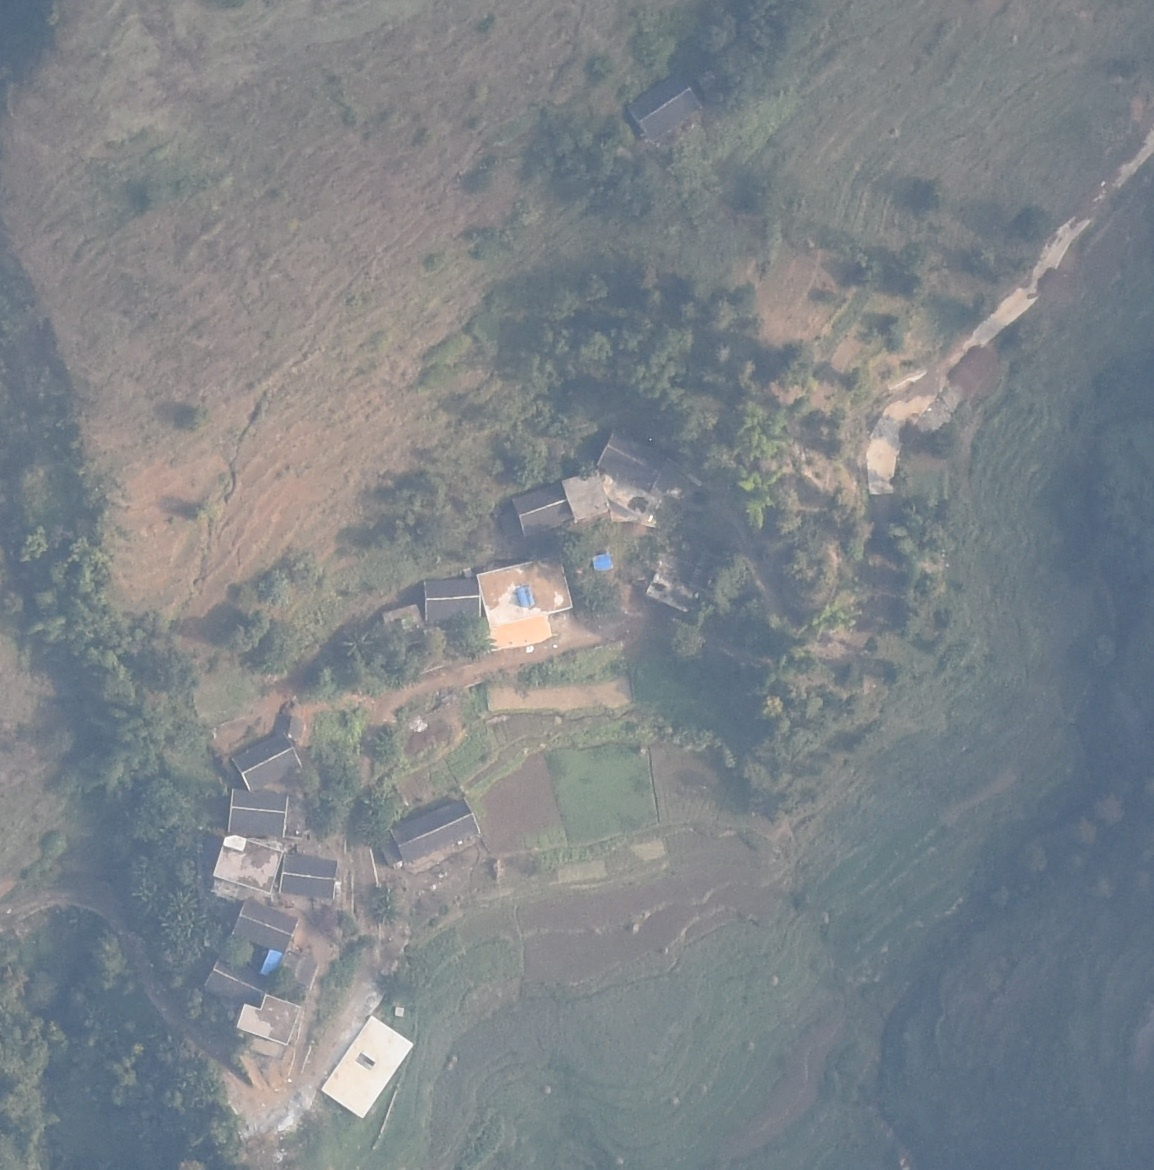building: (321, 1014, 414, 1118), (477, 554, 574, 626), (388, 799, 482, 863), (624, 73, 702, 141), (230, 734, 304, 794), (597, 430, 668, 488), (213, 837, 283, 895), (644, 552, 705, 614), (233, 900, 299, 955), (511, 482, 575, 536), (236, 995, 302, 1045), (228, 788, 289, 837), (204, 958, 268, 1004), (279, 852, 338, 900), (560, 468, 610, 521), (423, 578, 482, 622), (382, 604, 423, 637), (272, 712, 306, 741)
prefabricated-house: (261, 948, 283, 978), (591, 554, 613, 573)
